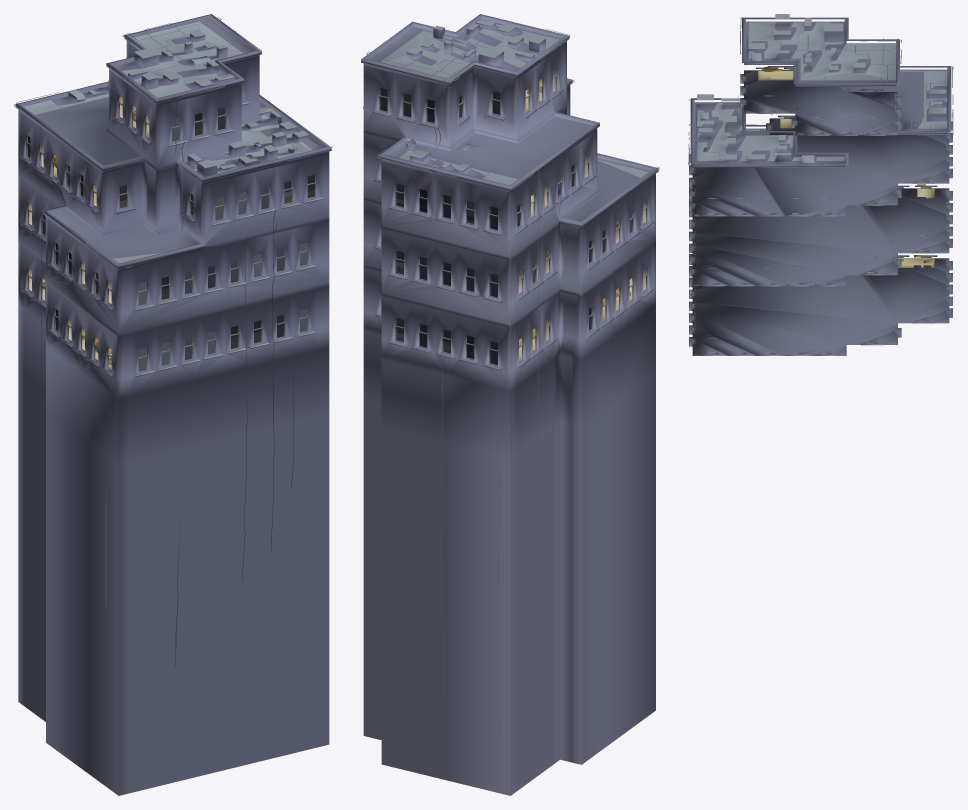
The model's file is mesh_bdg_B_07.gltf.
The picture shows the model from 3 angles, left to right: view 1: azimuth 30°, elevation 25°; view 2: azimuth 150°, elevation 25°; view 3: azimuth 270°, elevation 25°; orthographic projection. The views are drawn at different scales.
Visible parts, largest first — view 1: geo1; view 2: geo1; view 3: geo1.
Boxes of the visible parts, x1,y1,x2,y2 form: geo1: (14,14,332,795); geo1: (361,14,659,795); geo1: (688,14,953,355).
Bounding box in the file's own units: 10.31 × 30.45 × 10.33.
